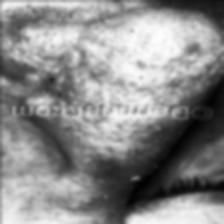Non-Cancerous Skin Condition: (7, 25, 208, 90), (90, 148, 140, 182)
